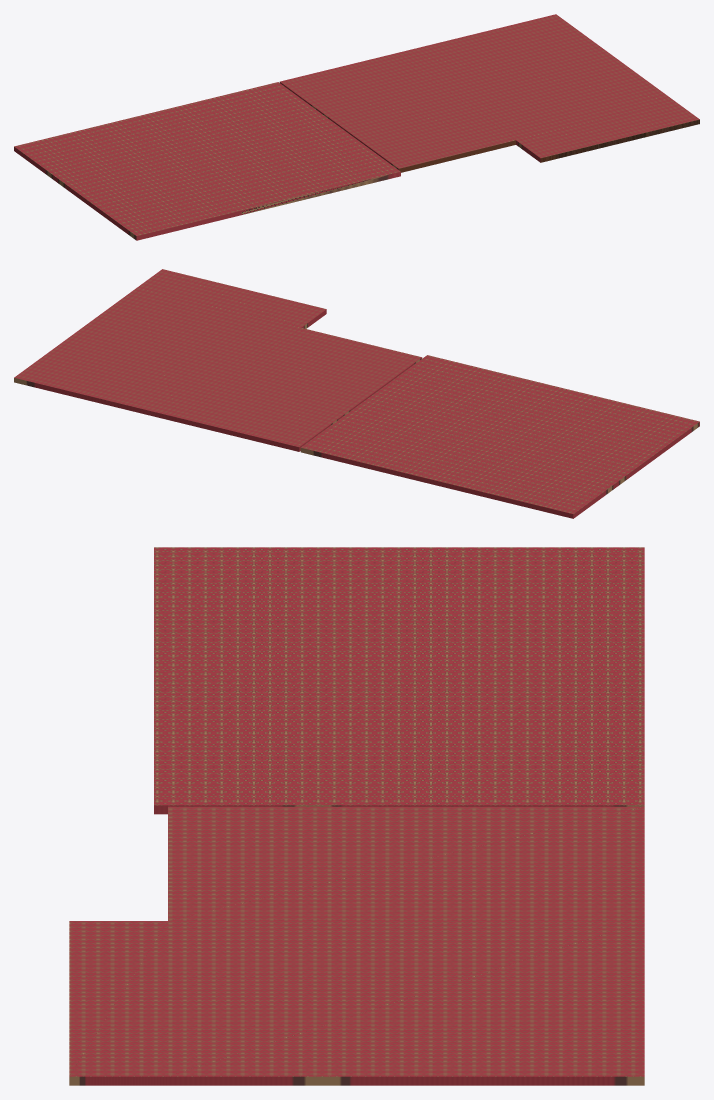
File: SecondFloor.fbx
3 renders of one model, top to bottom at view 1: azimuth 30°, elevation 25°; view 2: azimuth 150°, elevation 25°; view 3: azimuth 270°, elevation 25°, orthographic. The views are drawn at different scales.
Visible parts, largest first — view 1: Floor.001, Floor.003; view 2: Floor.001, Floor.003; view 3: Floor.001, Floor.003.
Part boxes in pixels (left/top/right/bottom): Floor.001: left=279, top=14, right=699, bottom=172; Floor.003: left=14, top=82, right=400, bottom=240; Floor.001: left=14, top=269, right=422, bottom=451; Floor.003: left=300, top=355, right=699, bottom=518; Floor.001: left=69, top=806, right=644, bottom=1085; Floor.003: left=154, top=547, right=644, bottom=814.
Bounding box in the file's own units: 3524 × 28.34 × 1620.
